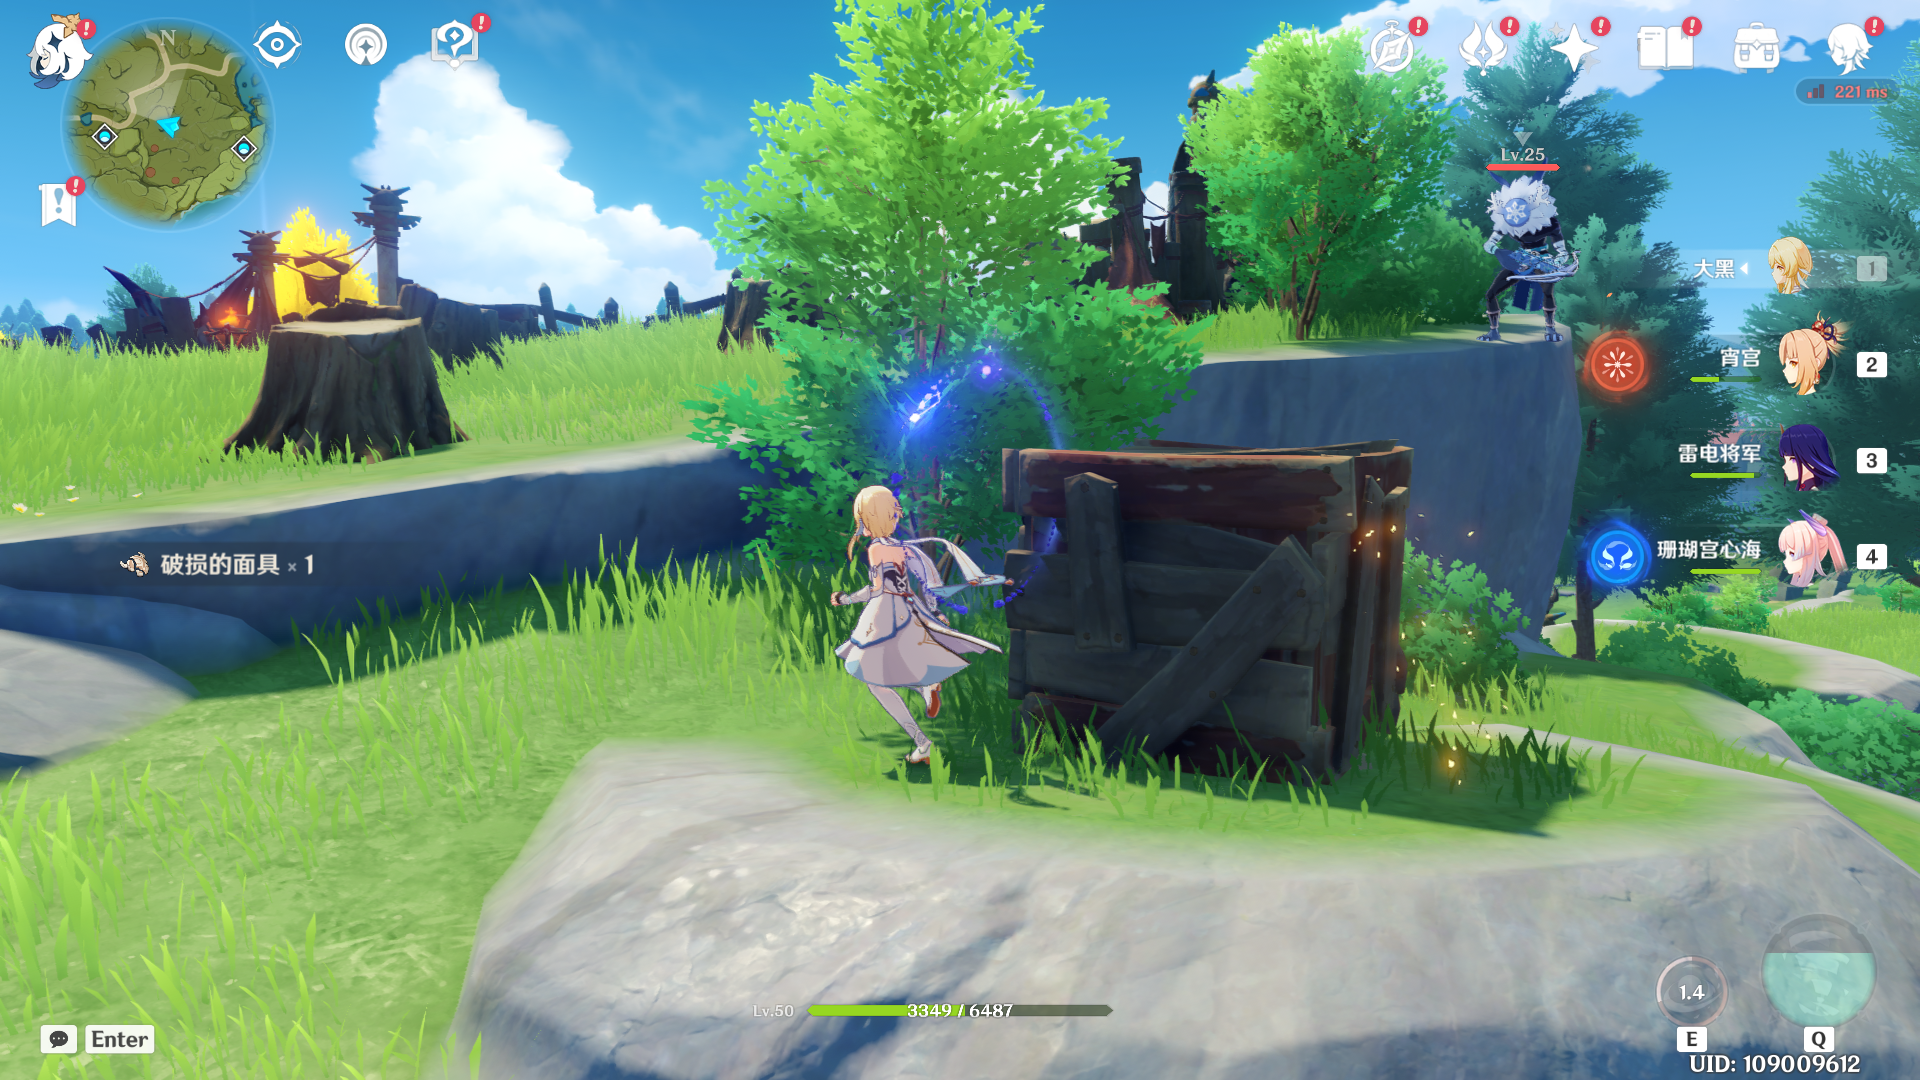character: (773, 465, 1048, 812)
hili: (1445, 156, 1622, 382)
